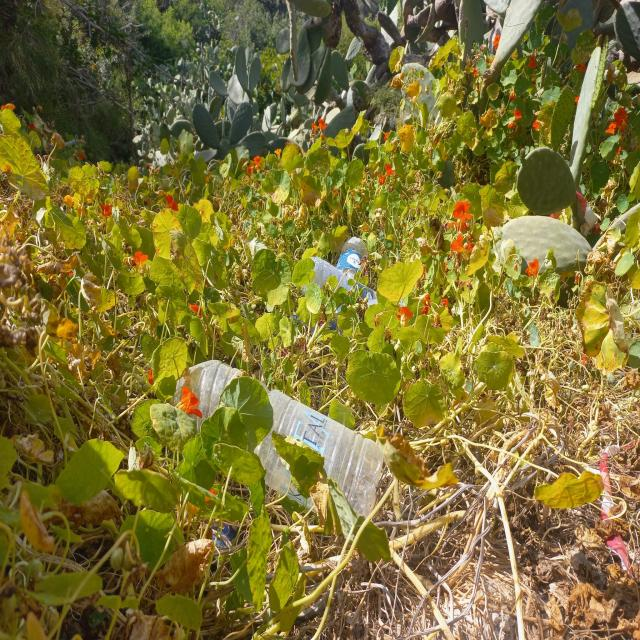Bottle: (167, 357, 385, 518), (300, 256, 379, 331), (336, 237, 367, 282), (291, 314, 315, 336)
Bottle cap: (212, 523, 237, 549)
